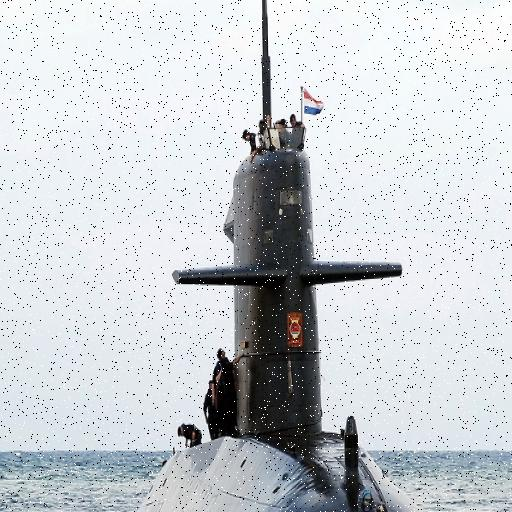submarine: (127, 1, 448, 512)
